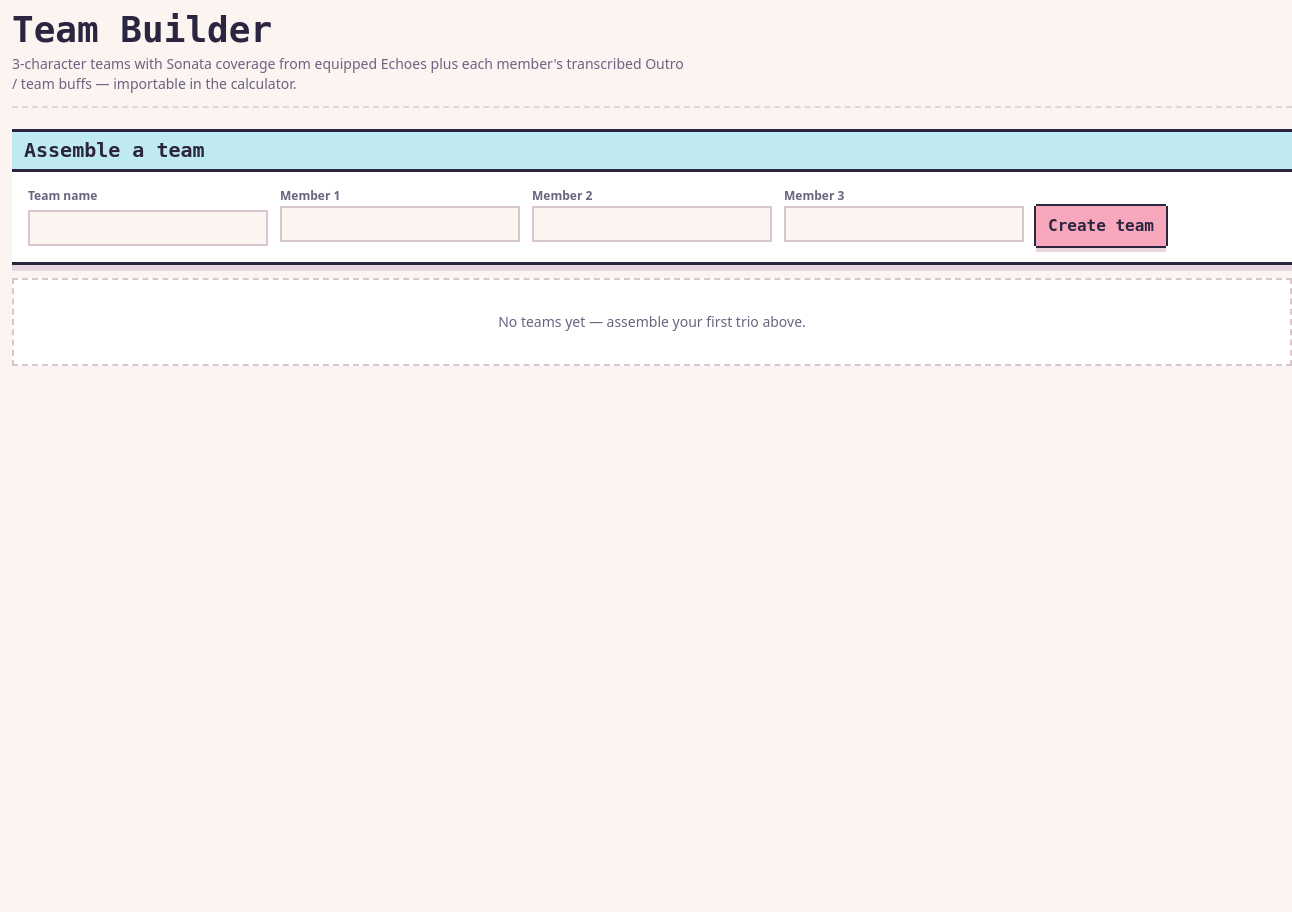
Test case: TeamsPage › creates a team and persists it
Type "Main" into the field labelled "Team name".
click(148, 228); type("Main")  # box x1=28 y1=210 x2=268 y2=246
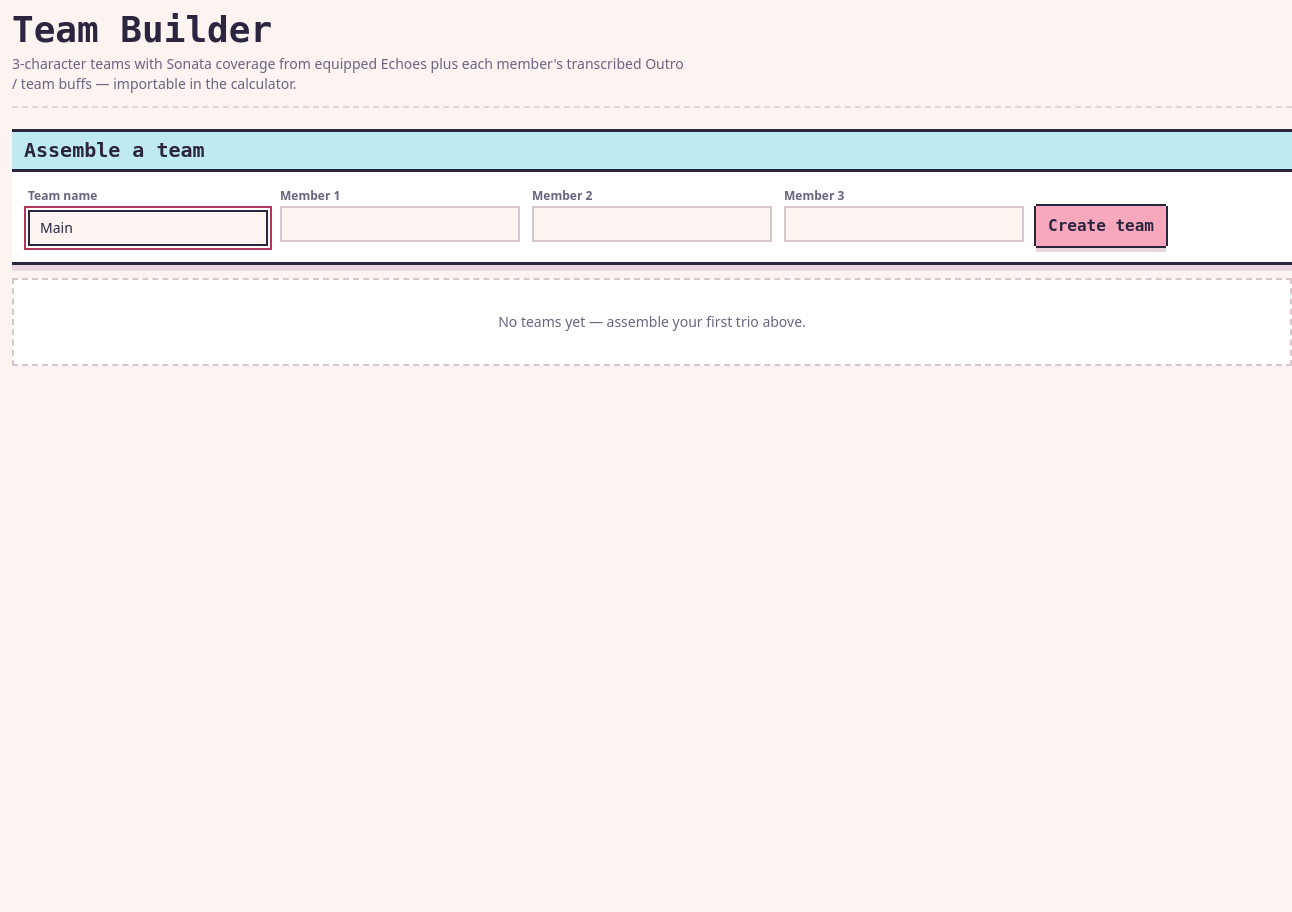
Type "jiyan" into the dropdown labelled "Member 1".
click(400, 224); type("jiyan")  # box x1=280 y1=206 x2=520 y2=242
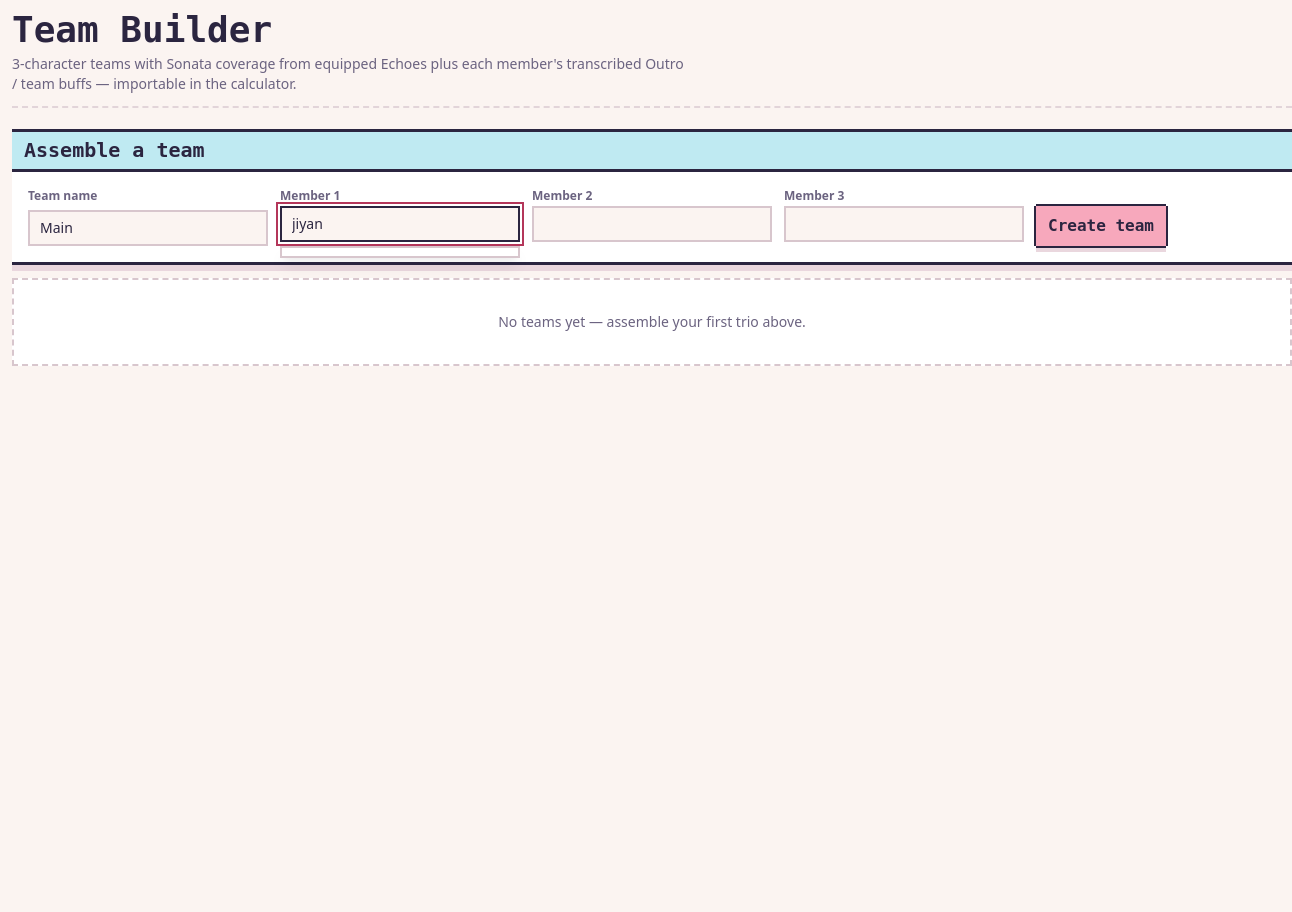
Type "verina" into the dropdown labelled "Member 2".
click(652, 224); type("verina")  # box x1=532 y1=206 x2=772 y2=242
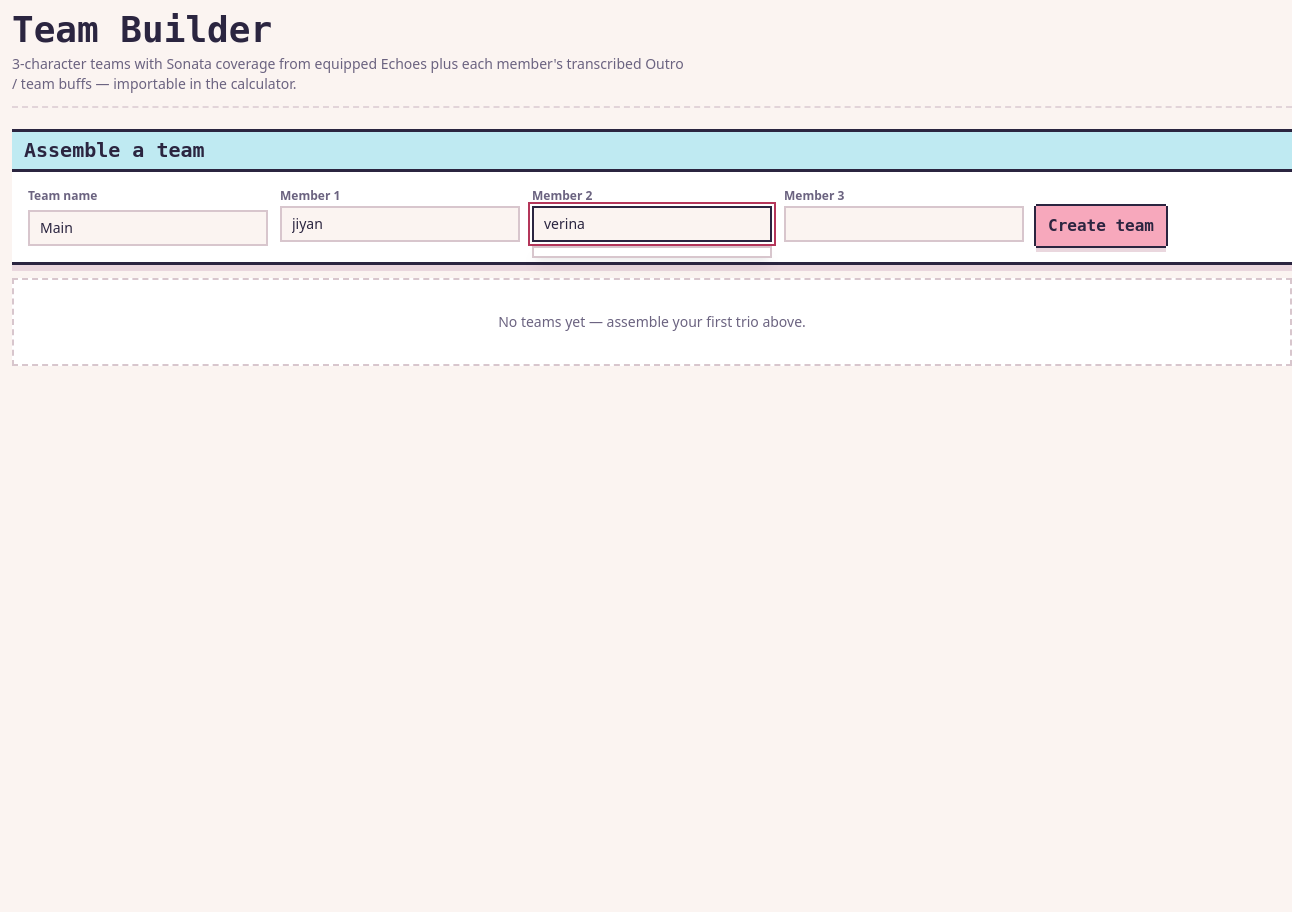
Type "rover" into the dropdown labelled "Member 3".
click(904, 224); type("rover")  # box x1=784 y1=206 x2=1024 y2=242
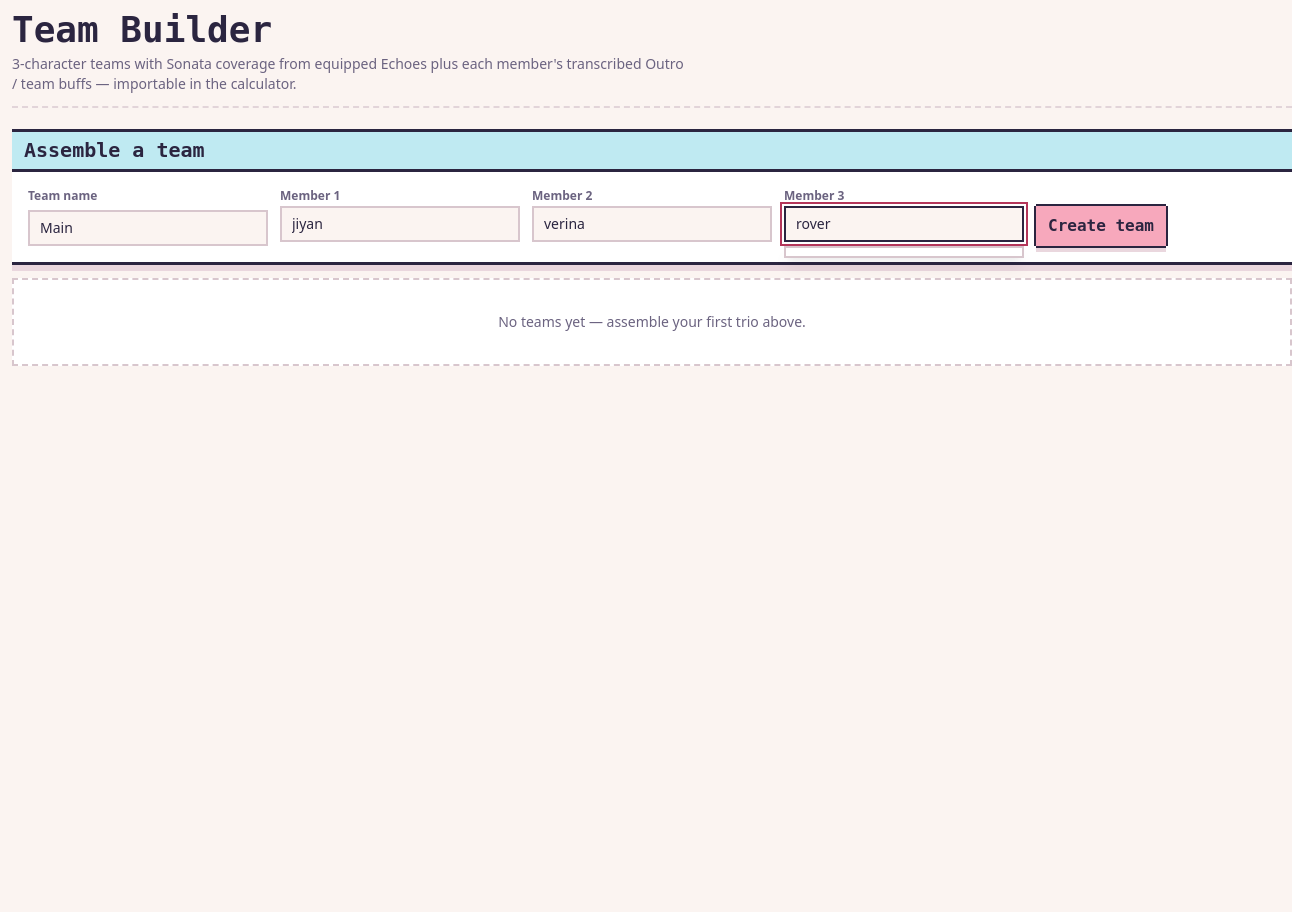
Click the button "Create team".
click(1101, 226)  # box x1=1036 y1=206 x2=1166 y2=246
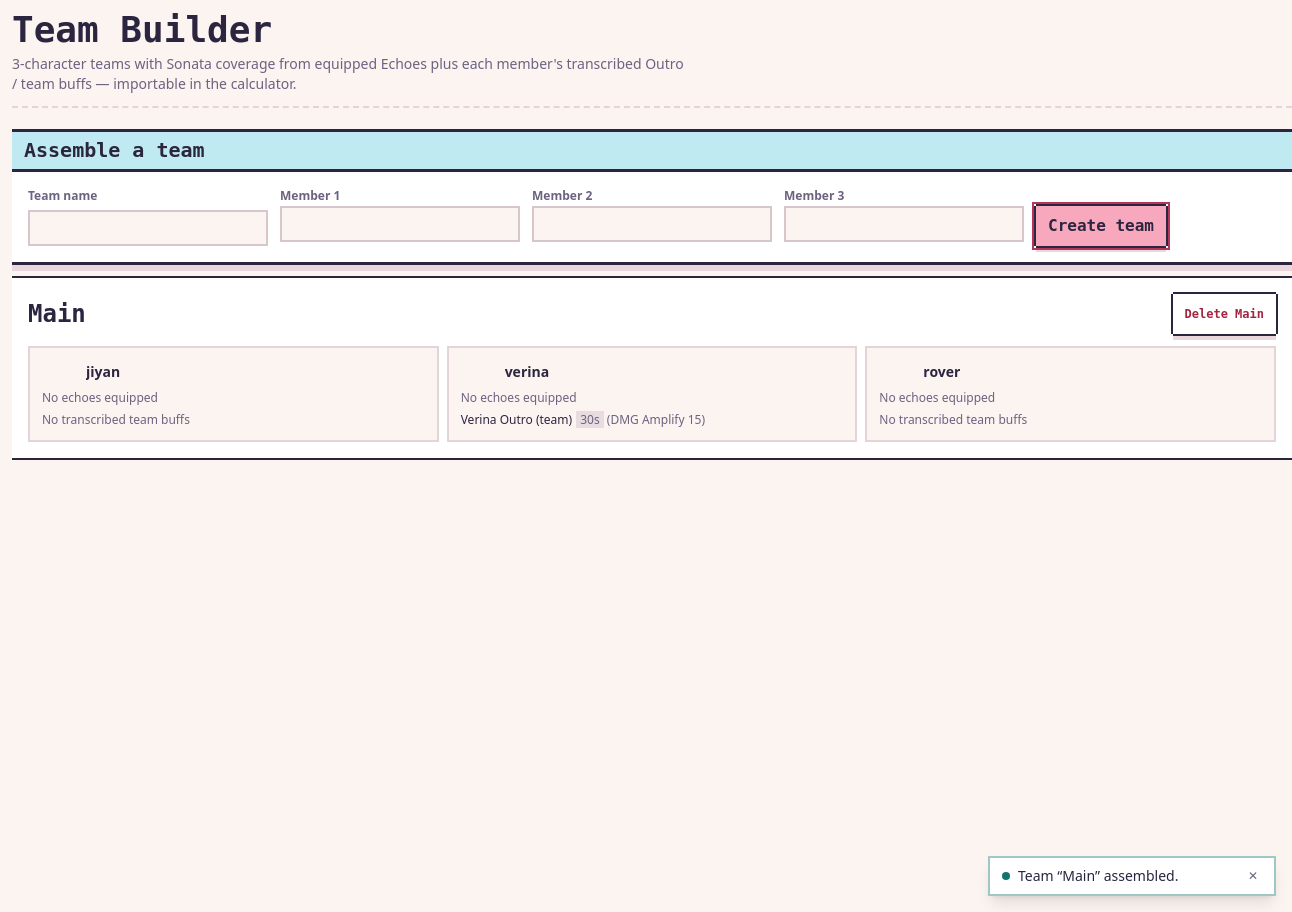
Expected: the heading "Main" is shown, x1=28 y1=300 x2=86 y2=328
